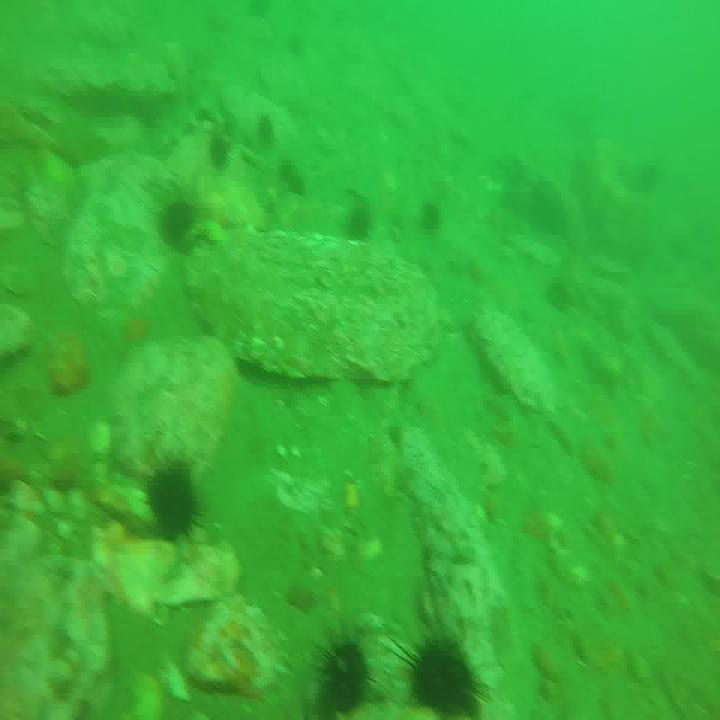echinus: (402, 633, 477, 720), (144, 452, 198, 538), (318, 635, 369, 716), (162, 192, 193, 236), (210, 133, 232, 176), (350, 208, 374, 246), (280, 158, 302, 193), (256, 107, 276, 136), (424, 201, 440, 235)
